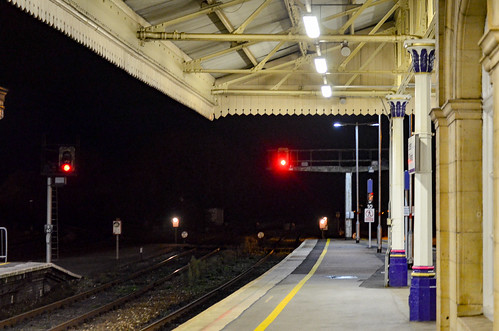building: (376, 1, 499, 305)
train track: (1, 225, 304, 331)
